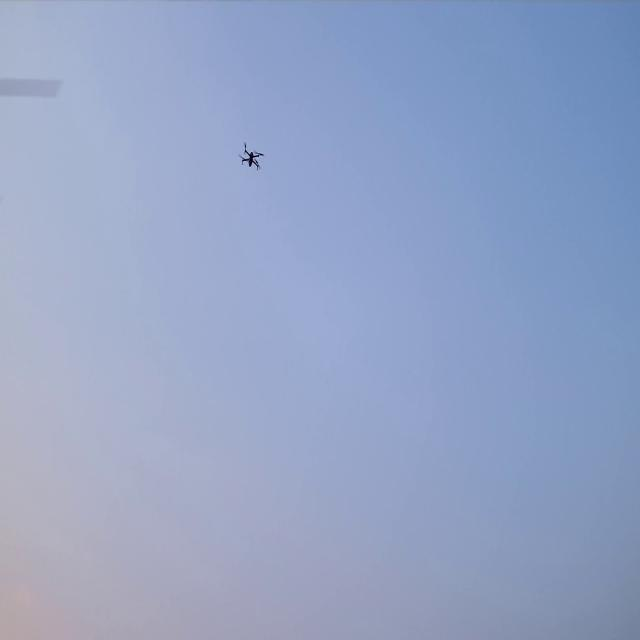UAV: (237, 139, 265, 172)
